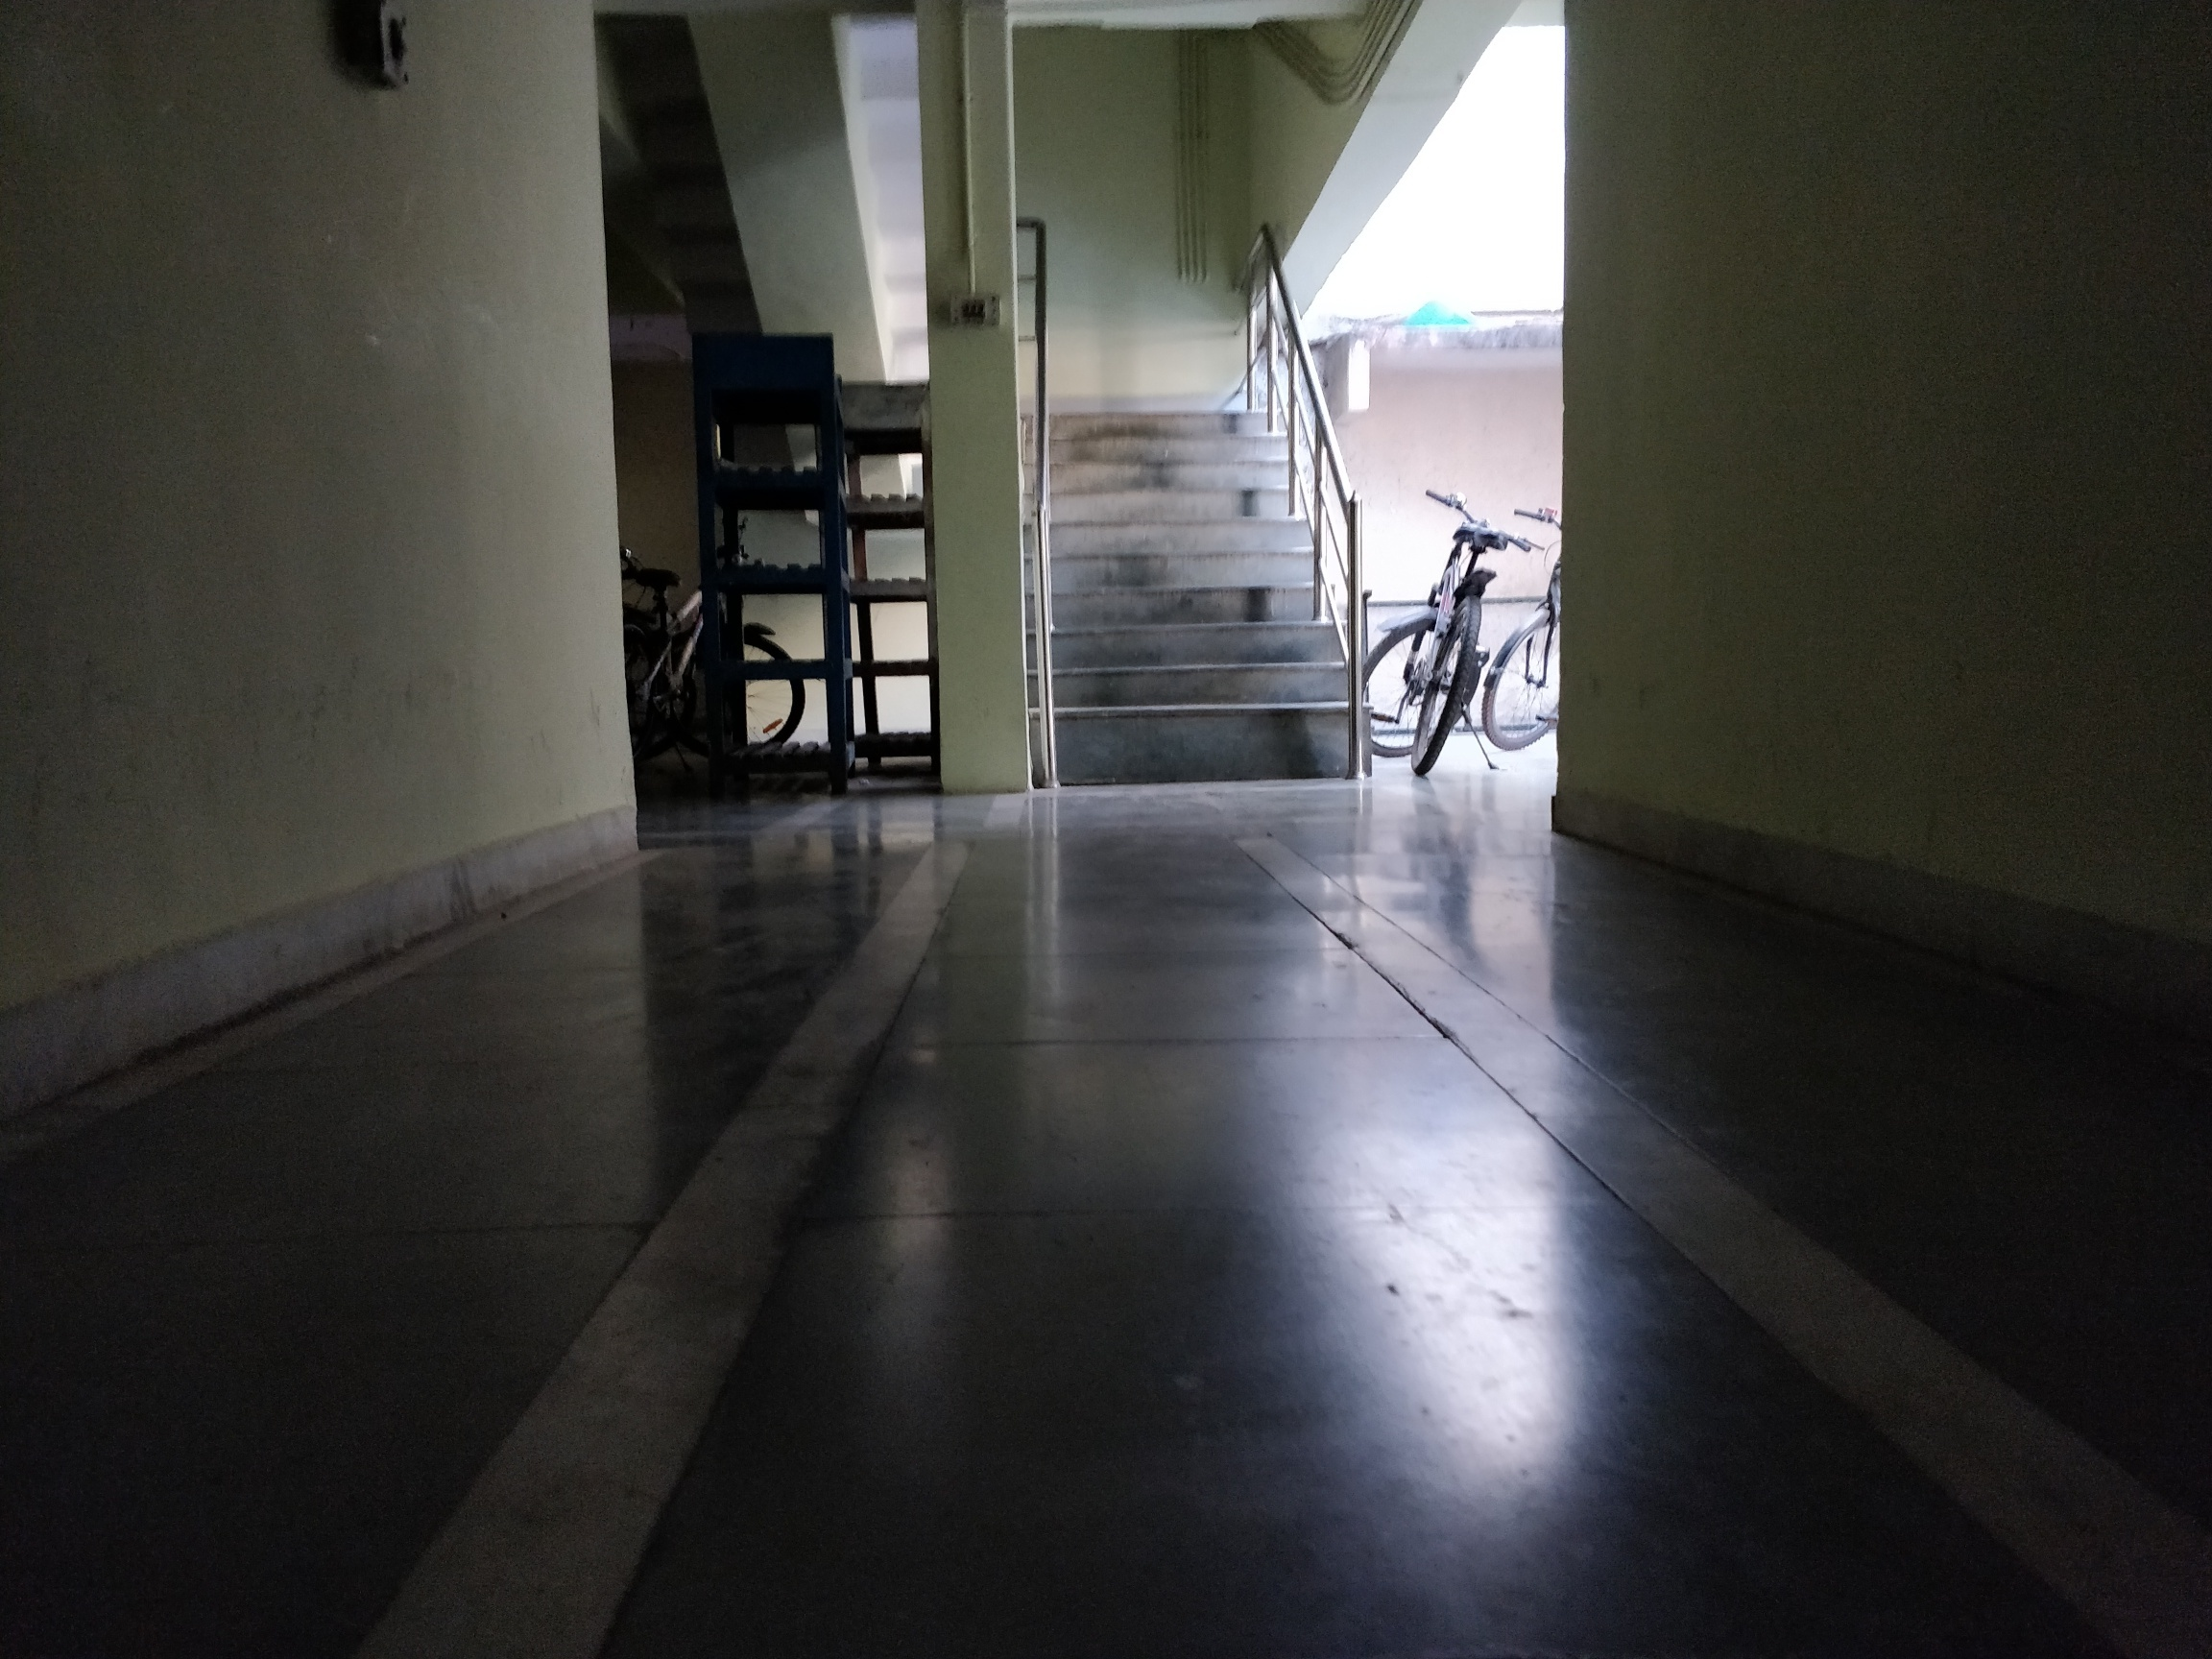stairs_up: (1028, 406, 1359, 770)
